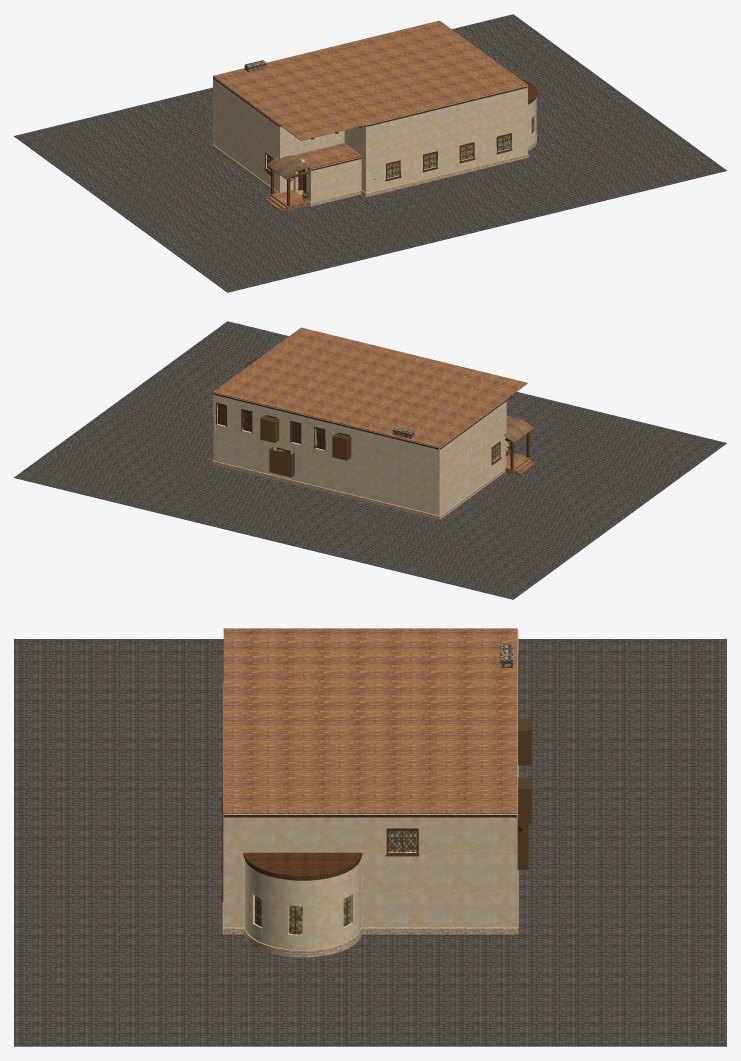
File: han-pismis.glb
The picture shows the model from 3 angles, top to bottom: view 1: azimuth 30°, elevation 25°; view 2: azimuth 150°, elevation 25°; view 3: azimuth 270°, elevation 25°; orthographic projection. The views are drawn at different scales.
Parts seen in each view (by area): view 1: Dis_Toprak, Tavan, Duvar_Guney, Duvar_Bati, Duvar_Guney_Giris, Dis_Temel, Giris_Tavan, Sundurma, Duvar_Guney_Kanat_Ust, Sundurma_Sacak, Duvar_Guney_Kanat, Duvar_Bati_Kose; view 2: Dis_Toprak, Tavan, Duvar_Kuzey, Duvar_Bati, Dis_Temel, Sundurma, Mutfak_Girisi, Oda_Ic_1, Oda_Ic_4, Sundurma_Sacak; view 3: Dis_Toprak, Tavan, Duvar_Dogu, Dis_Temel, Cikinti_Tavan, Duvar_Cikinti_05, Duvar_Cikinti_07, Duvar_Cikinti_08, Pencere_Dogu_Ust, Duvar_Cikinti_09, Duvar_Cikinti_04, Duvar_Cikinti_06 (+2 smaller).
Part boxes in pixels (x1,y1,x2,y2): Dis_Toprak: [14, 14, 726, 292]; Tavan: [213, 20, 527, 140]; Duvar_Guney: [364, 85, 527, 192]; Duvar_Bati: [213, 76, 282, 192]; Duvar_Guney_Giris: [309, 157, 361, 201]; Dis_Temel: [212, 135, 536, 206]; Giris_Tavan: [294, 143, 361, 169]; Sundurma: [265, 169, 309, 211]; Duvar_Guney_Kanat_Ust: [293, 130, 344, 155]; Sundurma_Sacak: [267, 155, 310, 179]; Duvar_Guney_Kanat: [278, 125, 293, 192]; Duvar_Bati_Kose: [360, 125, 368, 192]; Dis_Toprak: [14, 321, 726, 599]; Tavan: [213, 327, 527, 447]; Duvar_Kuzey: [213, 393, 441, 515]; Duvar_Bati: [437, 399, 506, 515]; Dis_Temel: [212, 460, 505, 520]; Sundurma: [505, 432, 535, 474]; Mutfak_Girisi: [269, 447, 294, 477]; Oda_Ic_1: [332, 433, 351, 460]; Oda_Ic_4: [260, 415, 279, 442]; Sundurma_Sacak: [504, 417, 533, 442]; Dis_Toprak: [14, 639, 726, 1046]; Tavan: [223, 628, 517, 814]; Duvar_Dogu: [223, 814, 517, 927]; Dis_Temel: [222, 765, 518, 957]; Cikinti_Tavan: [243, 852, 362, 877]; Duvar_Cikinti_05: [273, 875, 288, 948]; Duvar_Cikinti_07: [302, 877, 317, 949]; Duvar_Cikinti_08: [317, 875, 331, 948]; Pencere_Dogu_Ust: [385, 828, 419, 856]; Duvar_Cikinti_09: [331, 871, 344, 946]; Duvar_Cikinti_04: [261, 871, 273, 946]; Duvar_Cikinti_06: [287, 877, 302, 949].
Size of the model in its own units: 54 by 12.6 by 40.
54 materials, 29 textured.
